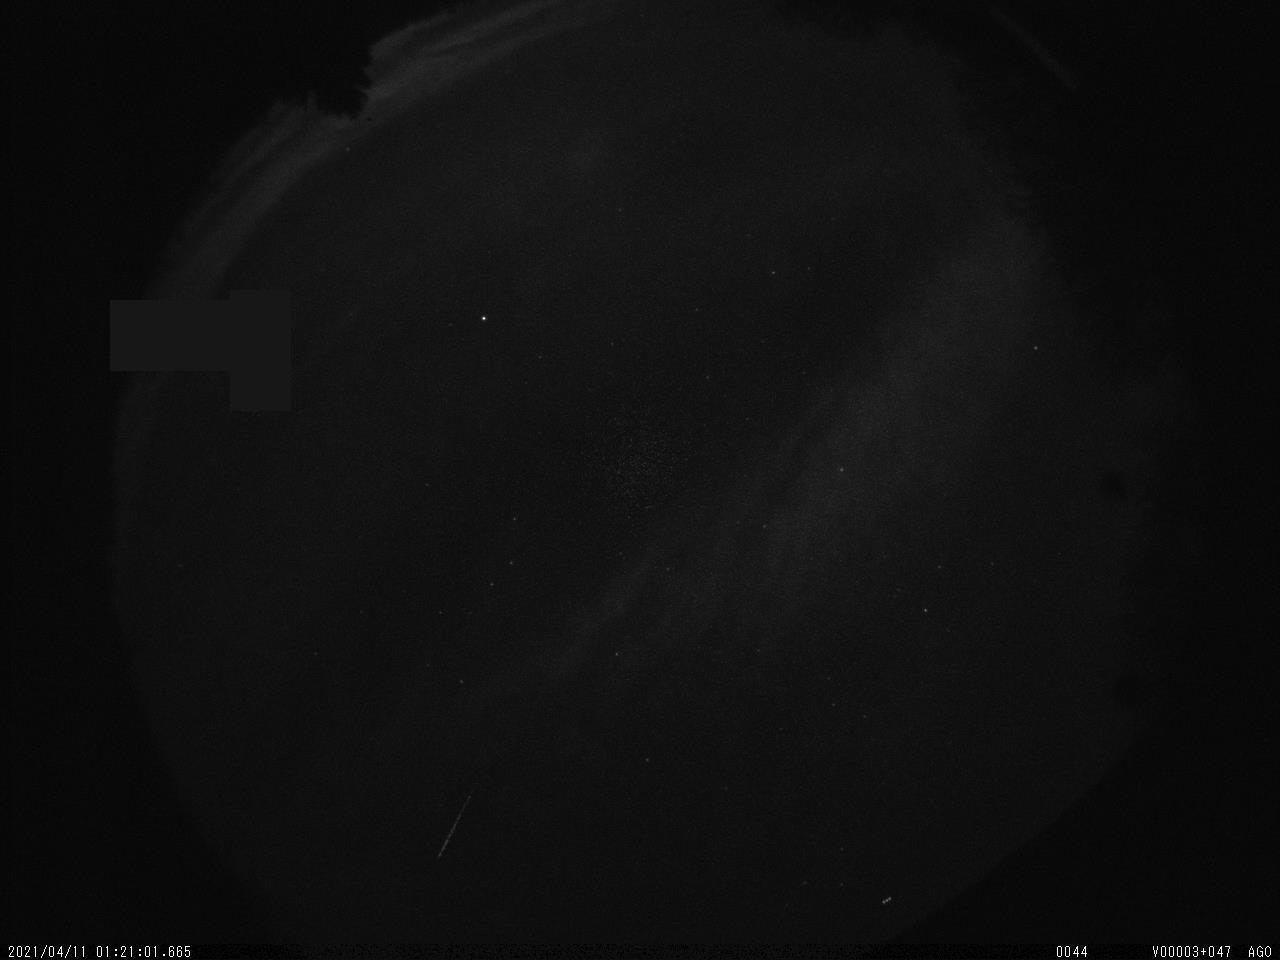meteor: (422, 773, 484, 873)
